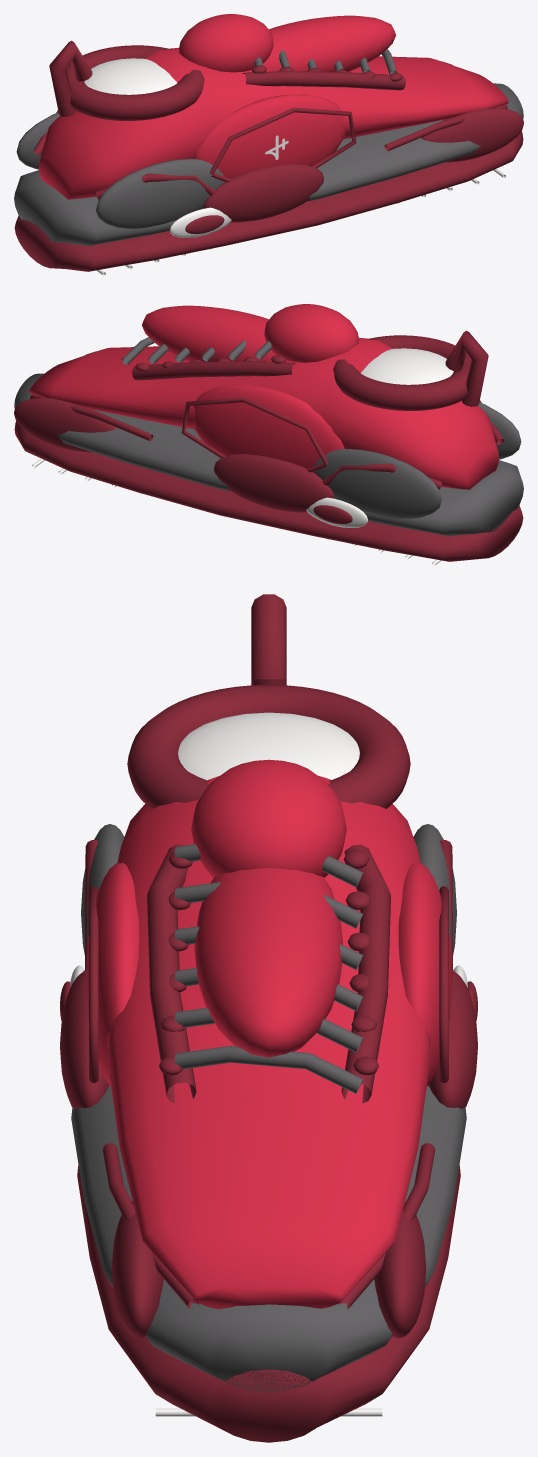
The model's file is sneaker-crimson.glb.
The picture shows the model from 3 angles, top to bottom: view 1: azimuth 30°, elevation 25°; view 2: azimuth 150°, elevation 25°; view 3: azimuth 270°, elevation 25°; orthographic projection. The views are drawn at different scales.
Visible parts, largest first — view 1: upper volume, deep traction outsole, full volume midsole, quarter leather panel, heel stabilizer, tongue, padded crimson collar, arch support, tongue crest, forefoot guard, ankle cavity, left eyestay (+7 smaller); view 2: upper volume, deep traction outsole, full volume midsole, quarter leather panel.001, heel stabilizer.001, tongue, padded crimson collar, arch support.001, tongue crest, forefoot guard.001, ankle cavity, right eyestay (+8 smaller); view 3: upper volume, full volume midsole, tongue, deep traction outsole, padded crimson collar, tongue crest, ankle cavity, quarter leather panel.001, quarter leather panel, left eyestay, right eyestay, forefoot guard (+14 smaller).
Boxes of the visible parts, bbox=[...] form: upper volume: bbox=[38, 47, 508, 199]; deep traction outsole: bbox=[14, 131, 523, 271]; full volume midsole: bbox=[14, 83, 523, 245]; quarter leather panel: bbox=[193, 94, 344, 178]; heel stabilizer: bbox=[96, 159, 224, 228]; tongue: bbox=[263, 15, 395, 72]; padded crimson collar: bbox=[66, 45, 204, 120]; arch support: bbox=[203, 164, 323, 222]; tongue crest: bbox=[179, 14, 273, 72]; forefoot guard: bbox=[421, 107, 523, 162]; ankle cavity: bbox=[84, 58, 177, 94]; left eyestay: bbox=[242, 71, 405, 90]; upper volume: bbox=[29, 337, 499, 489]; deep traction outsole: bbox=[14, 421, 523, 561]; full volume midsole: bbox=[14, 373, 523, 535]; quarter leather panel.001: bbox=[193, 384, 344, 468]; heel stabilizer.001: bbox=[313, 449, 441, 518]; tongue: bbox=[142, 305, 275, 362]; padded crimson collar: bbox=[333, 335, 471, 410]; arch support.001: bbox=[214, 454, 334, 512]; tongue crest: bbox=[264, 304, 358, 362]; forefoot guard.001: bbox=[14, 397, 115, 452]; ankle cavity: bbox=[361, 348, 453, 384]; right eyestay: bbox=[132, 361, 295, 380]; upper volume: bbox=[107, 775, 430, 1308]; full volume midsole: bbox=[71, 1085, 466, 1392]; tongue: bbox=[194, 868, 342, 1057]; deep traction outsole: bbox=[77, 1165, 460, 1442]; padded crimson collar: bbox=[127, 684, 410, 808]; tongue crest: bbox=[191, 759, 346, 877]; ankle cavity: bbox=[178, 712, 359, 780]; quarter leather panel.001: bbox=[398, 863, 452, 1086]; quarter leather panel: bbox=[85, 863, 139, 1086]; left eyestay: bbox=[147, 844, 196, 1102]; right eyestay: bbox=[341, 844, 390, 1103]; forefoot guard: bbox=[111, 1201, 163, 1338].
Size of the model in its own units: 3.36 by 1.46 by 1.29.
Materials: 9 (1 with a texture image).
